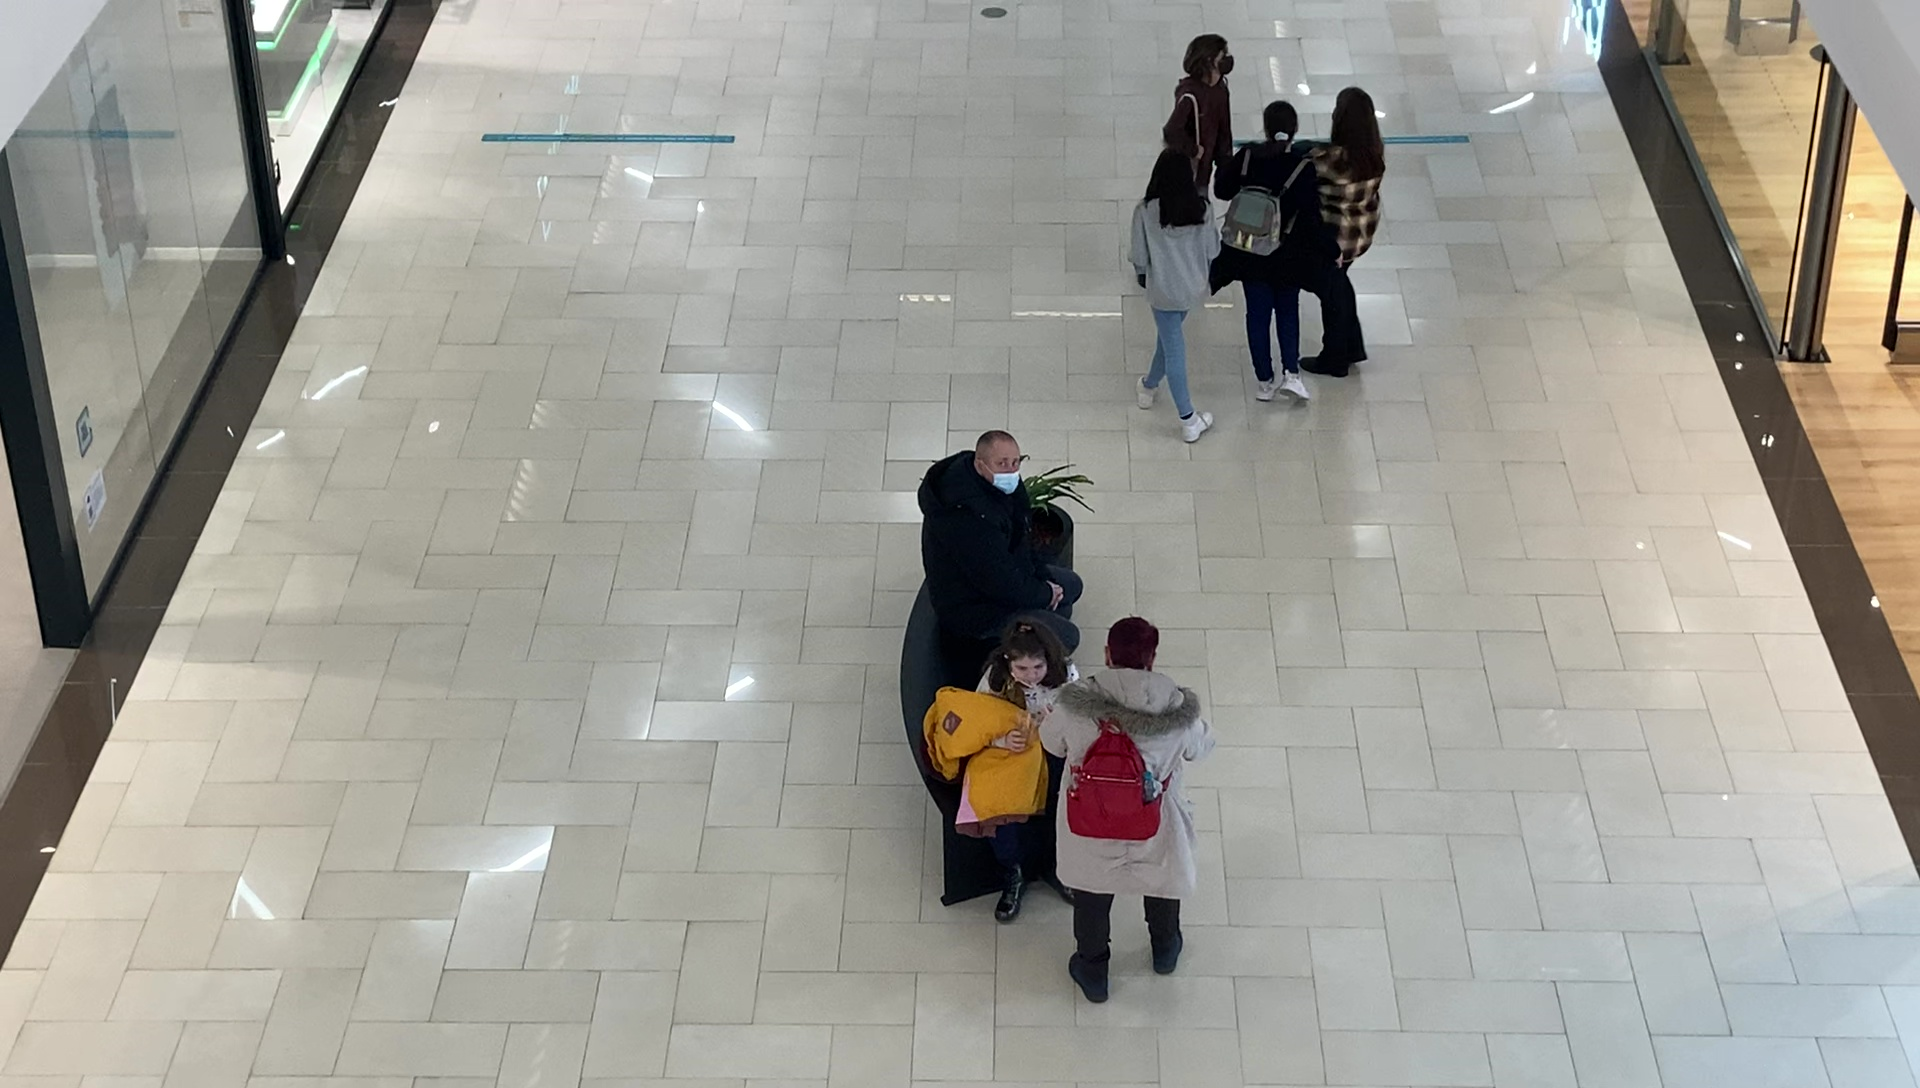person: (1043, 619, 1207, 995), (917, 431, 1086, 651), (958, 620, 1061, 920), (1218, 99, 1317, 403), (1131, 150, 1221, 442), (1303, 89, 1386, 383), (1168, 35, 1239, 167)
